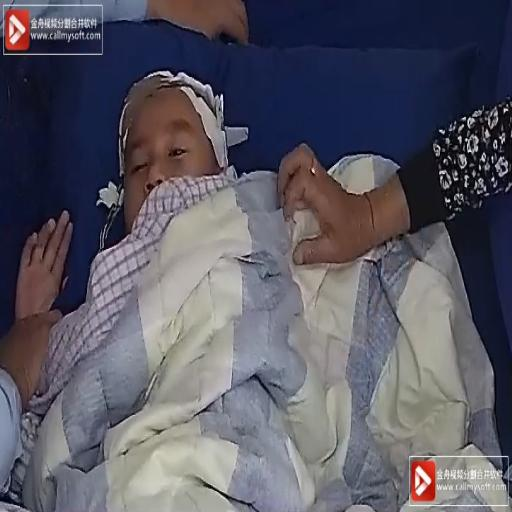Seizure: (128, 99, 238, 222)
